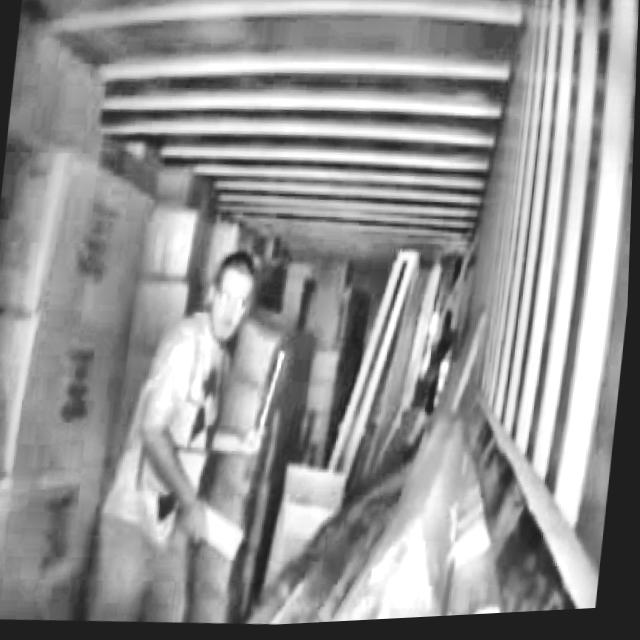burglary: (88, 233, 306, 634)
